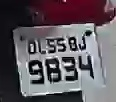3: (62, 54, 79, 86)
4: (76, 52, 97, 82)
5: (45, 38, 57, 53)
8: (44, 58, 63, 85)
9: (26, 56, 46, 87)
B: (65, 35, 79, 54)
D: (25, 37, 37, 55)
J: (77, 35, 87, 52)
L: (34, 37, 47, 54)
S: (54, 36, 67, 54)
